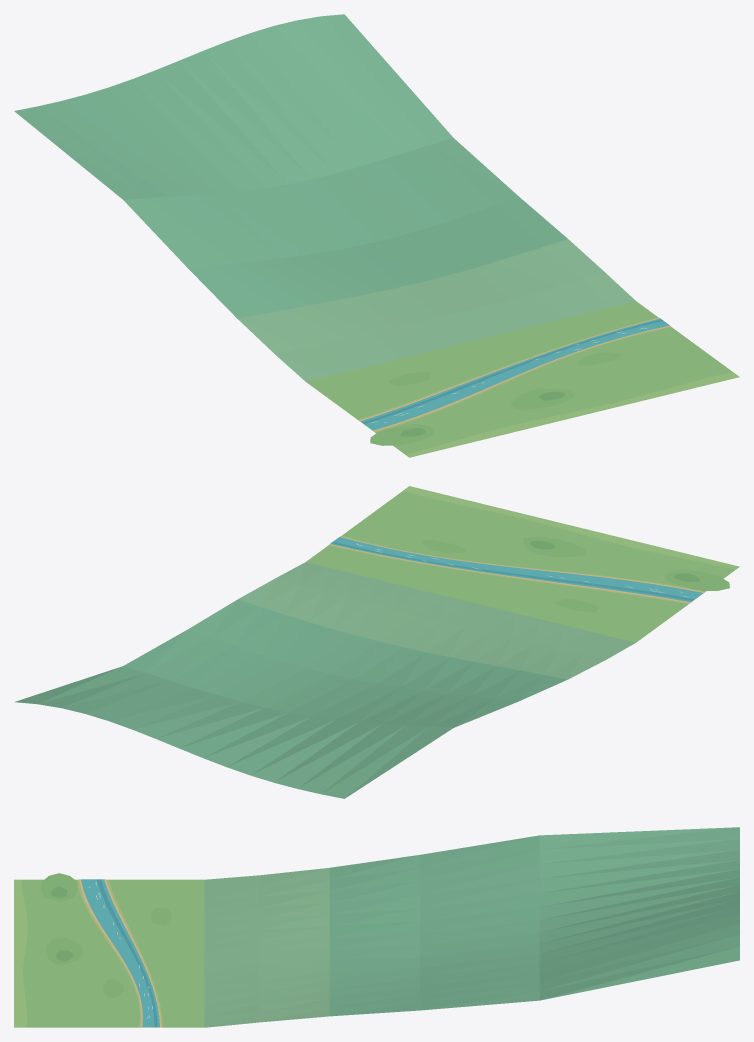
The model's file is Ruisseau_1.fbx.
The picture shows the model from 3 angles, top to bottom: view 1: azimuth 30°, elevation 25°; view 2: azimuth 150°, elevation 25°; view 3: azimuth 270°, elevation 25°; orthographic projection. The views are drawn at different scales.
Visible parts, largest first — view 1: Ruisseau_1; view 2: Ruisseau_1; view 3: Ruisseau_1.
Boxes of the visible parts, x1,y1,x2,y2 form: Ruisseau_1: [14, 14, 739, 457]; Ruisseau_1: [14, 486, 739, 798]; Ruisseau_1: [14, 827, 739, 1027].
Size of the model in its own units: 7309 by 1598 by 14504.
Materials: 1 (1 with a texture image).
